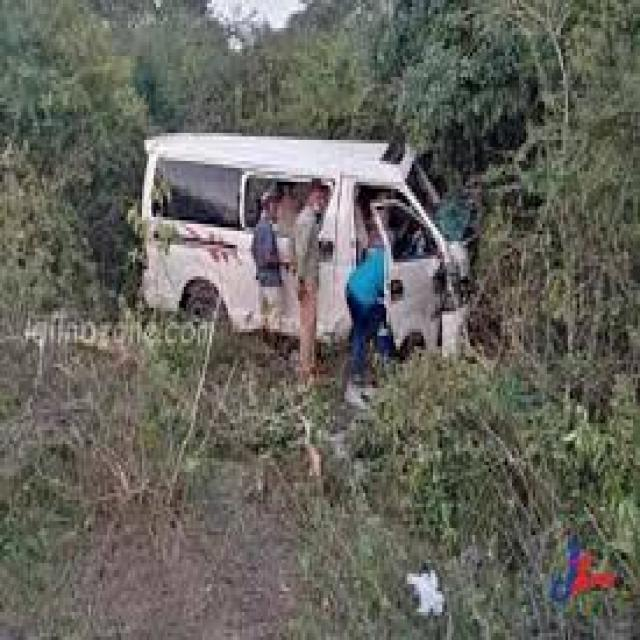person: (344, 248, 391, 409), (296, 178, 328, 381), (251, 192, 279, 332)
van: (142, 133, 465, 350)
